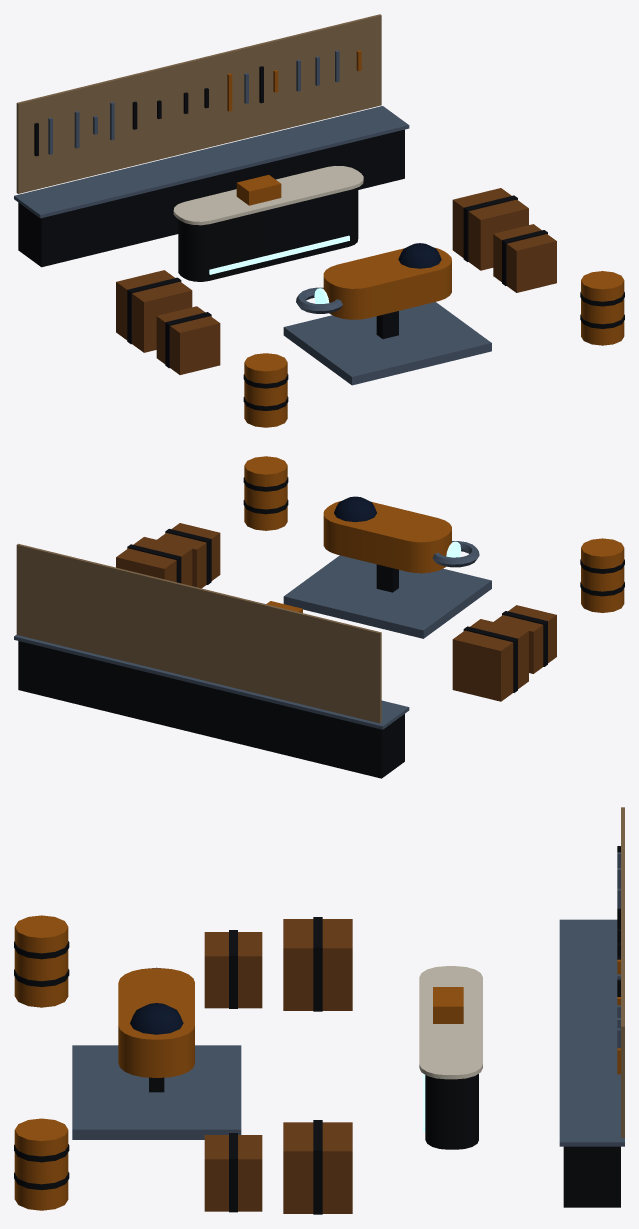
Rendered from fit_workshop_2.glb.
3 renders of one model, top to bottom at view 1: azimuth 30°, elevation 25°; view 2: azimuth 150°, elevation 25°; view 3: azimuth 270°, elevation 25°, orthographic. The views are drawn at different scales.
Parts seen in each view (by area): view 1: fit_workshop_2; view 2: fit_workshop_2; view 3: fit_workshop_2.
Part boxes in pixels (bbox=[...]): fit_workshop_2: bbox=[14, 14, 624, 427]; fit_workshop_2: bbox=[14, 456, 624, 778]; fit_workshop_2: bbox=[14, 807, 624, 1214].
Bounding box in the file's own units: 7.2 × 2.6 × 7.96.
